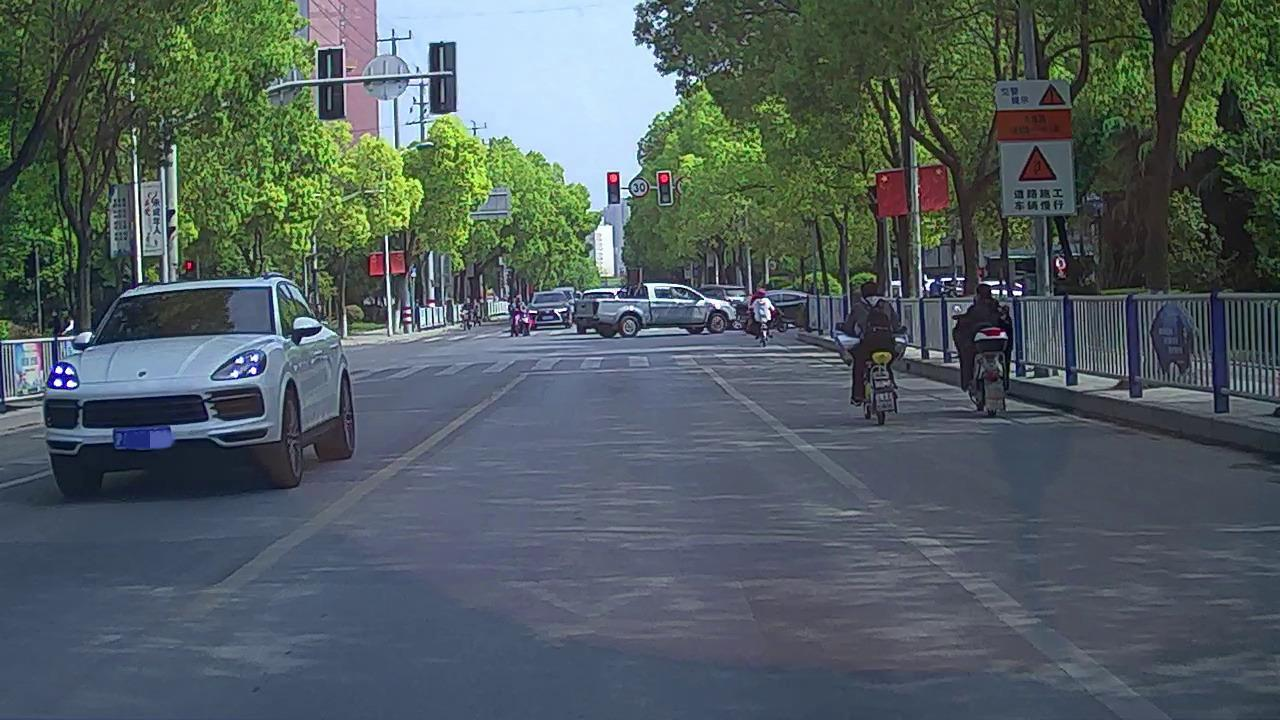traffic_light: (658, 171, 671, 203), (608, 172, 621, 203)
